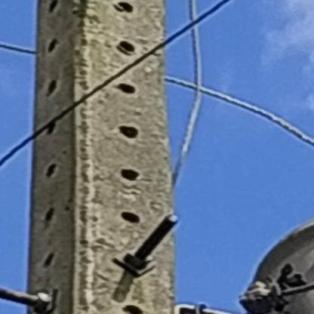Poste: (8, 4, 190, 314)
